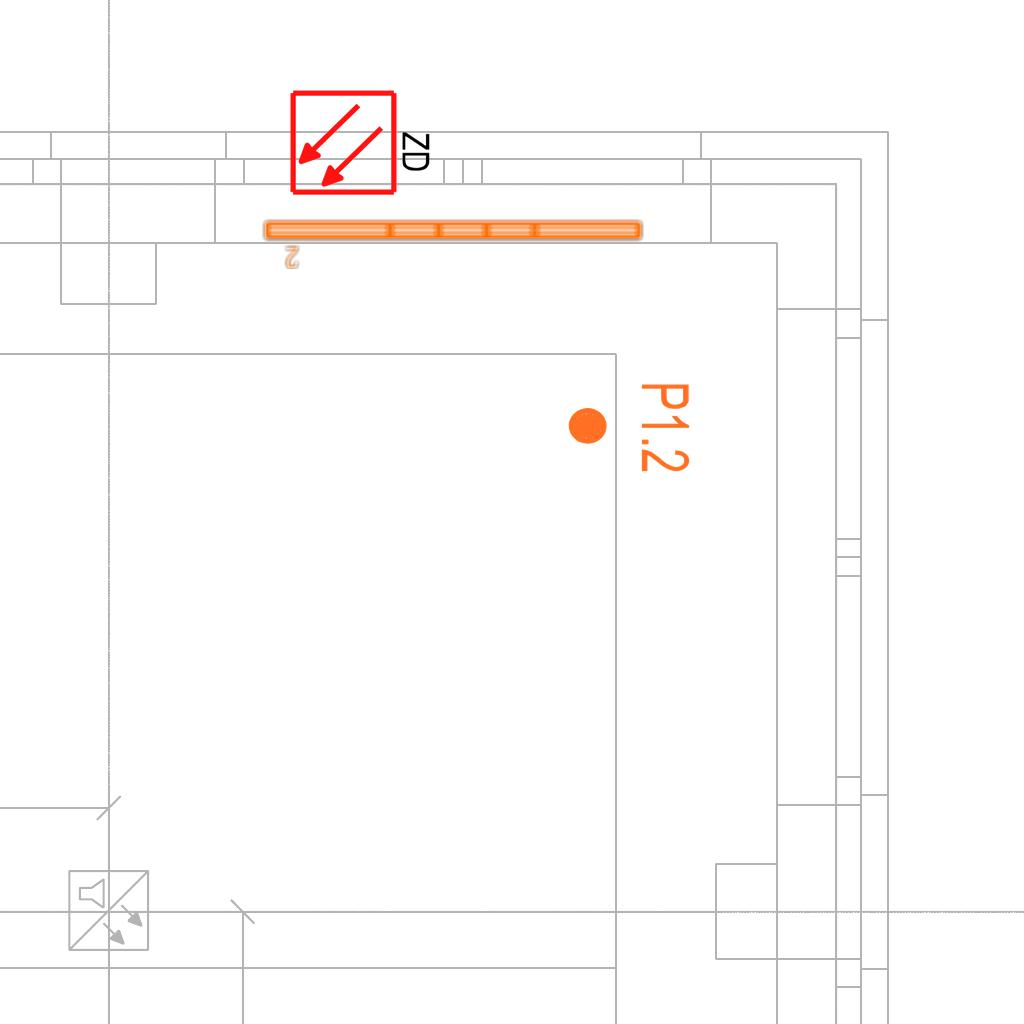Ambulanz_Pendelleuchte_LED: (260, 215, 647, 271)
Downlight_LED_Einbauleuchten_Flur: (565, 381, 693, 474)
ZD_Melder_in_Zwischendecke_mit_Revisionsoeffnung_mind_40_x_40_cm: (288, 84, 437, 198)
